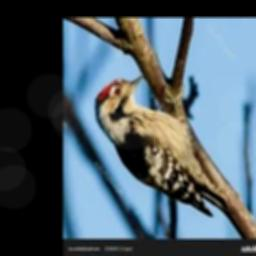Woodpecker: (95, 75, 228, 216)
